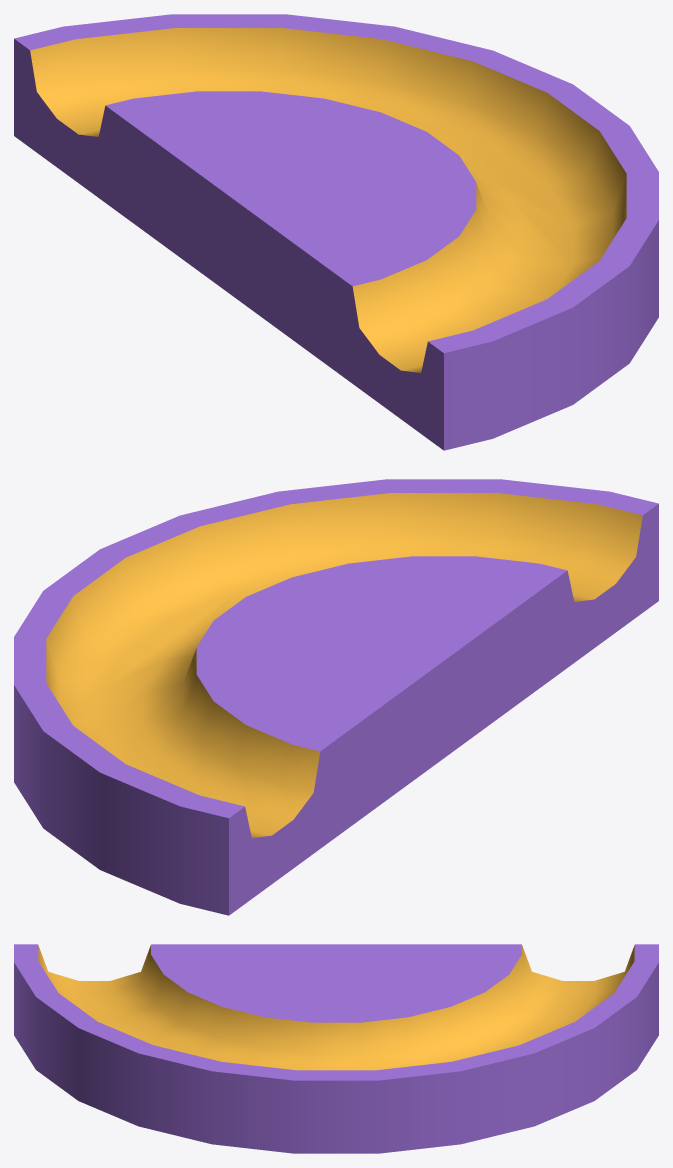
Rendered from bend-solid-medium-col.glb.
The picture shows the model from 3 angles, top to bottom: view 1: azimuth 30°, elevation 25°; view 2: azimuth 150°, elevation 25°; view 3: azimuth 270°, elevation 25°; orthographic projection. The views are drawn at different scales.
Parts seen in each view (by area): view 1: bend-solid-medium-col; view 2: bend-solid-medium-col; view 3: bend-solid-medium-col.
Part boxes in pixels (x1,y1,x2,y2): bend-solid-medium-col: (14, 14, 658, 450); bend-solid-medium-col: (14, 479, 658, 915); bend-solid-medium-col: (14, 944, 658, 1153).
Bounding box in the file's own units: 2 × 0.5 × 4.
1 material, 1 textured.
